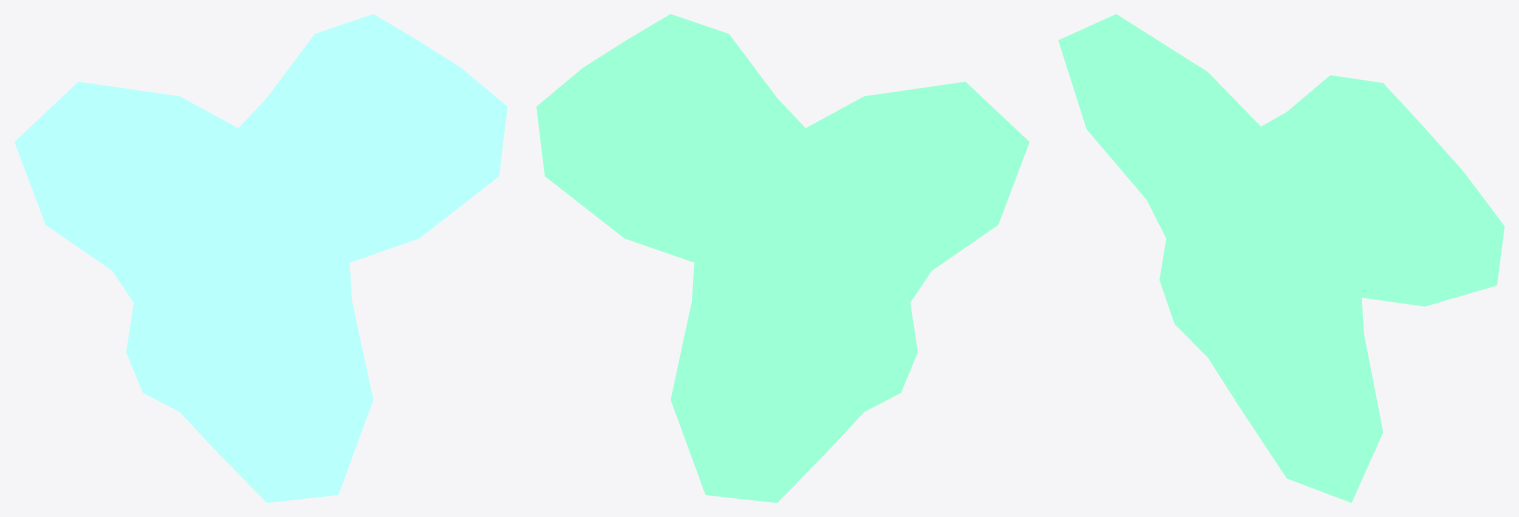
The model's file is puddle_toxic_acid.glb.
3 views of the same model, side by side, from view 1: azimuth 30°, elevation 25°; view 2: azimuth 150°, elevation 25°; view 3: azimuth 330°, elevation 25° (orthographic). The views are drawn at different scales.
Parts seen in each view (by area): view 1: PuddleAcid; view 2: PuddleAcid; view 3: PuddleAcid.
Boxes of the visible parts, left/top/right/bottom form: PuddleAcid: left=14, top=14, right=507, bottom=502; PuddleAcid: left=536, top=14, right=1029, bottom=502; PuddleAcid: left=1058, top=14, right=1504, bottom=502.
Size of the model in its own units: 3.44 by 3.18 by 0.
